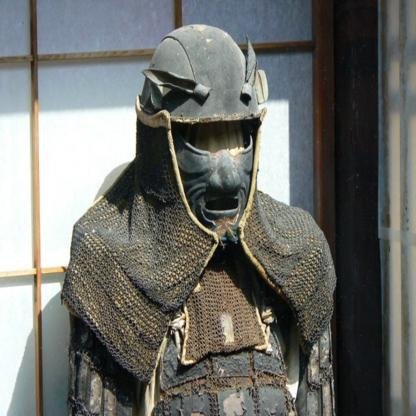Helmet: (109, 33, 269, 255)
